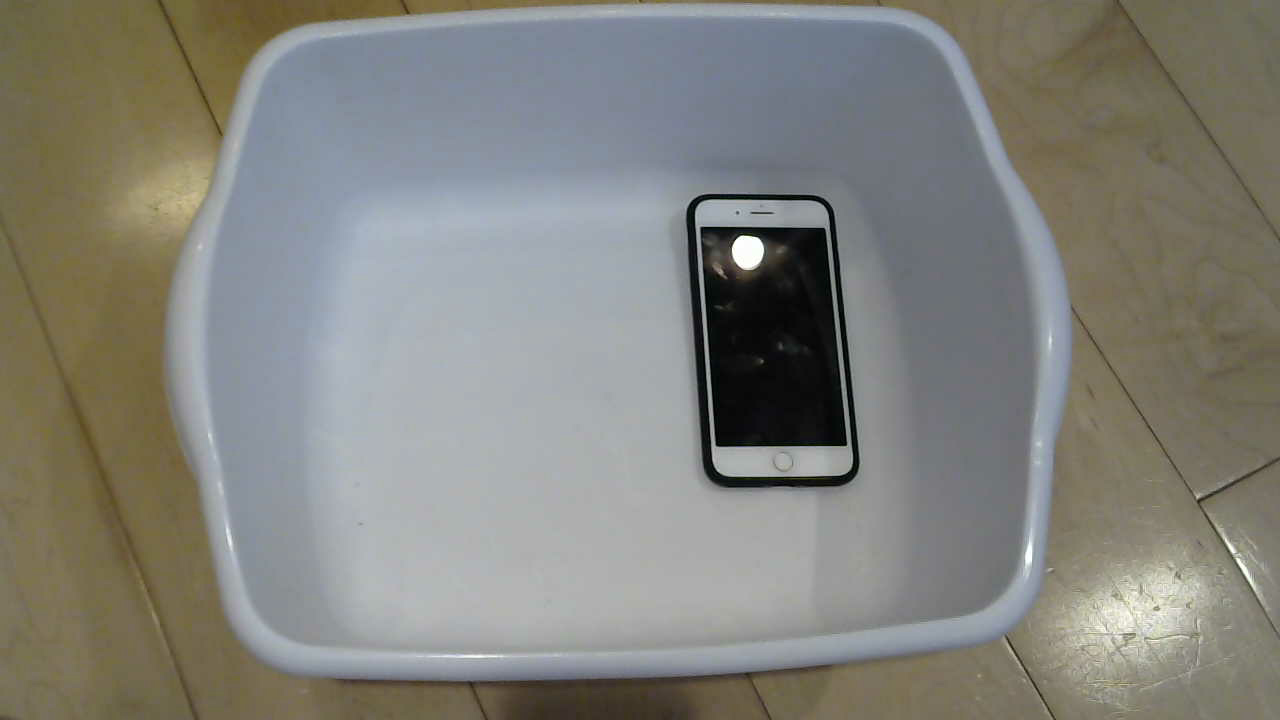phone: (668, 191, 867, 509)
